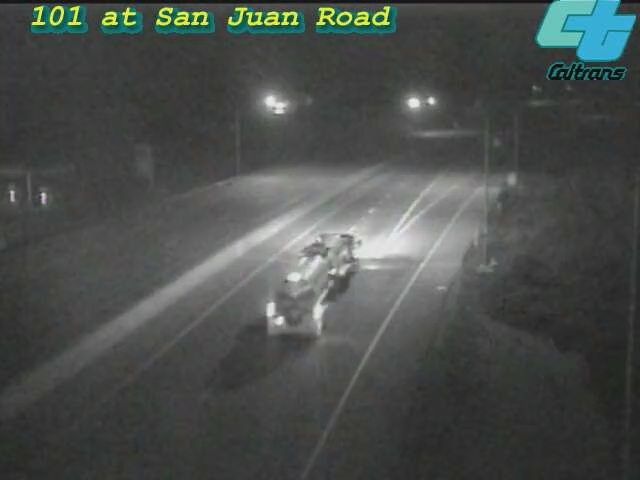vehicle: (280, 231, 360, 311)
